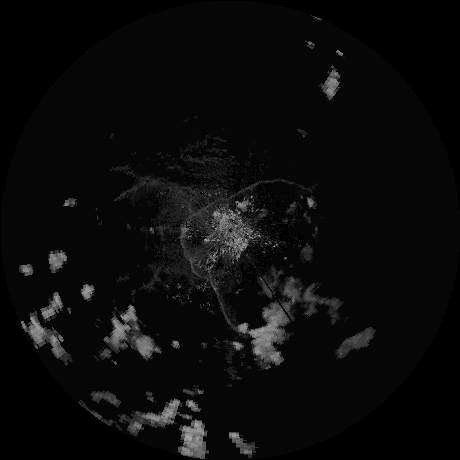frontgust: (180, 229, 237, 330), (183, 178, 301, 222)
